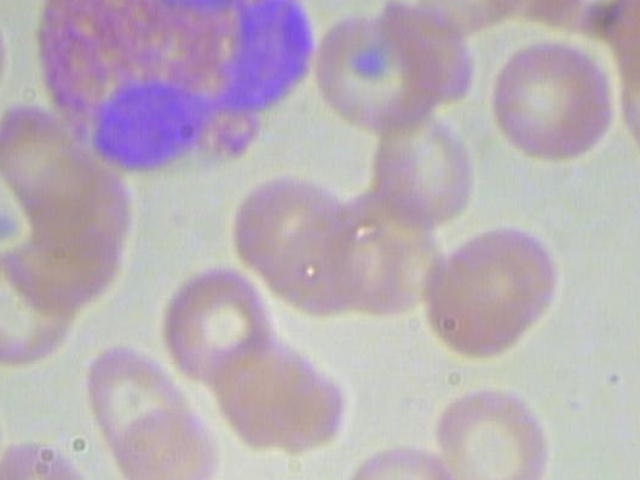Platelets: (0, 207, 25, 245)
RBC: (307, 2, 441, 130), (434, 222, 579, 340), (490, 33, 620, 163), (75, 343, 196, 462), (161, 257, 272, 382), (421, 246, 532, 363), (436, 376, 555, 480), (112, 402, 238, 480), (617, 66, 640, 198), (605, 0, 640, 86)
WBC: (20, 0, 331, 180)
